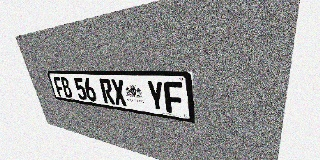5: (73, 78, 88, 100)
6: (82, 78, 97, 102)
B: (60, 77, 73, 98)
F: (163, 81, 184, 115), (53, 77, 66, 97)
R: (99, 79, 115, 105)
X: (110, 79, 128, 106)
Y: (146, 80, 166, 112)
